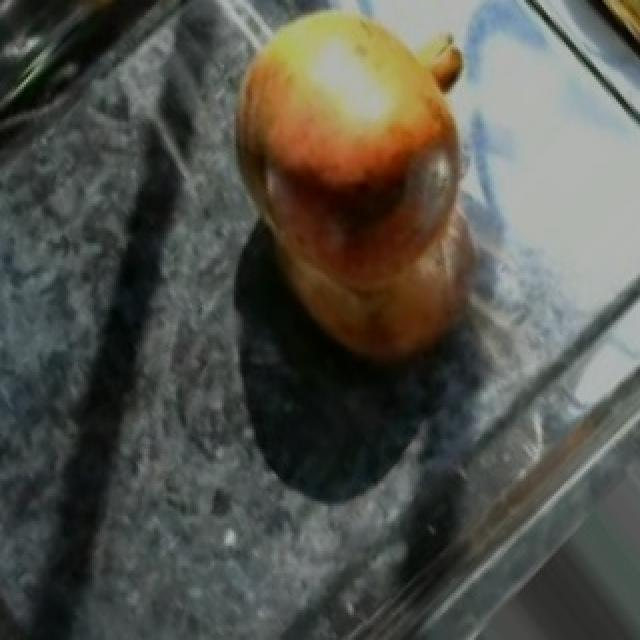fruit: (206, 0, 490, 285)
